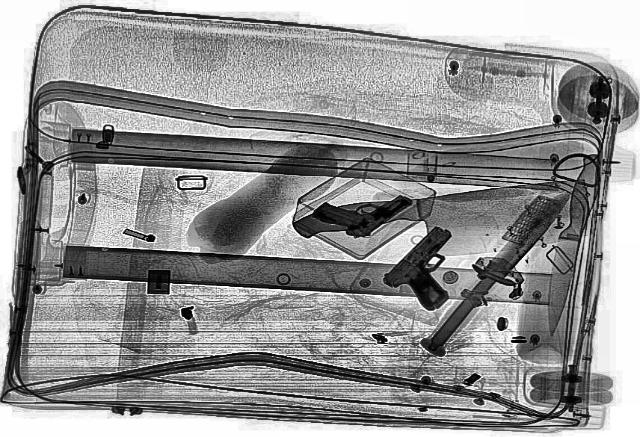Gun: (370, 224, 500, 312), (306, 173, 414, 241)
Knife: (287, 176, 605, 274), (419, 186, 578, 348), (536, 154, 606, 334)
